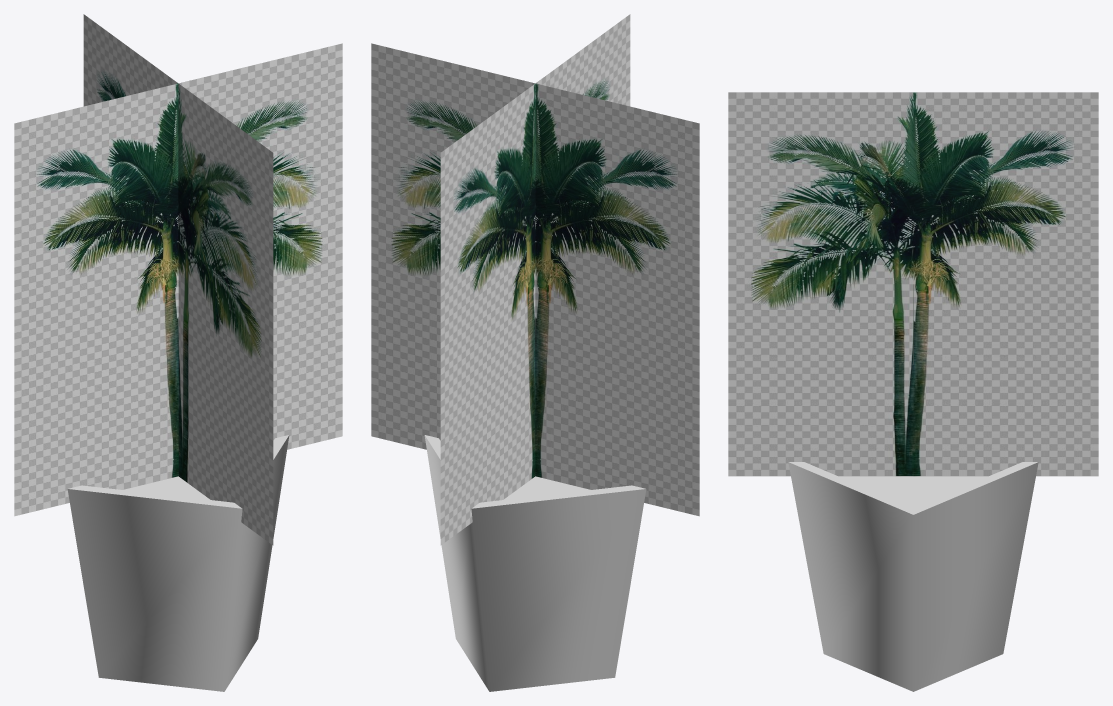
Rendered from pot.fbx.
3 views of the same model, side by side, from view 1: azimuth 30°, elevation 25°; view 2: azimuth 150°, elevation 25°; view 3: azimuth 270°, elevation 25° (orthographic). The views are drawn at different scales.
Visible parts, largest first — view 1: Plane192, Plane195, Box247; view 2: Plane192, Plane195, Box247; view 3: Plane195, Box247.
Part boxes in pixels (bbox=[...]): Plane192: bbox=[14, 43, 342, 516]; Plane195: bbox=[83, 14, 273, 545]; Box247: bbox=[67, 435, 289, 691]; Plane192: bbox=[371, 43, 699, 516]; Plane195: bbox=[440, 14, 630, 545]; Box247: bbox=[424, 435, 646, 691]; Plane195: bbox=[728, 92, 1098, 476]; Box247: bbox=[788, 462, 1038, 691].
Size of the model in its own units: 70 by 117 by 70.
Materials: 1 (1 with a texture image).
